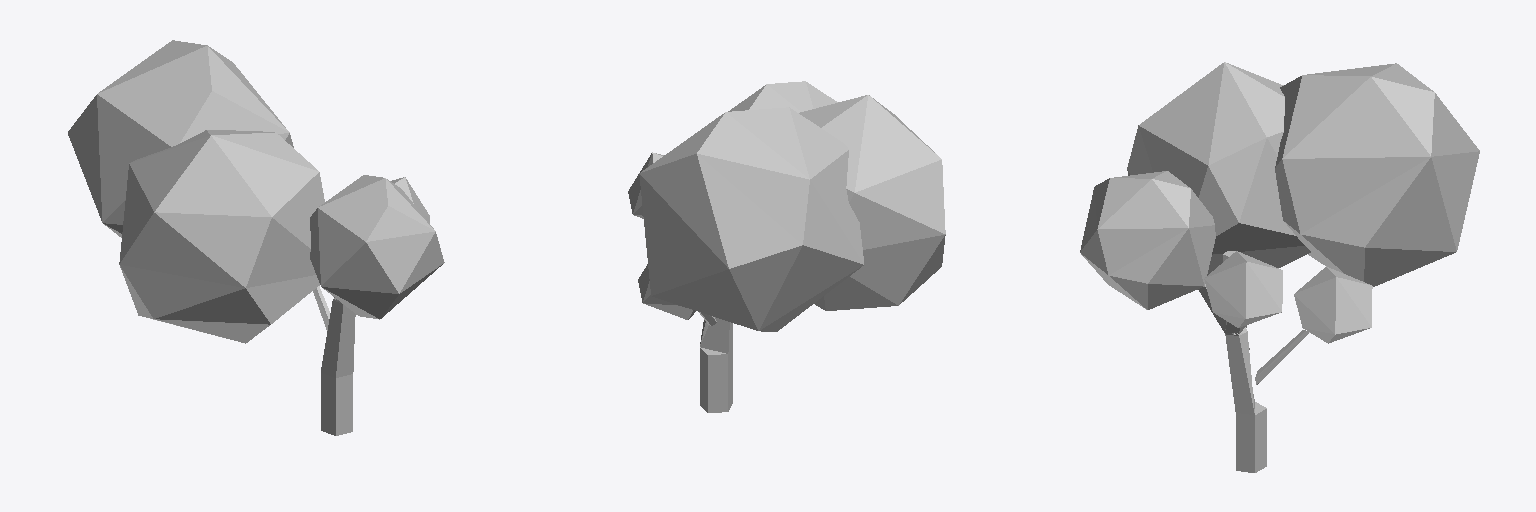
File: oak2.obj
The picture shows the model from 3 angles: view 1: azimuth 30°, elevation 25°; view 2: azimuth 150°, elevation 25°; view 3: azimuth 270°, elevation 25°; orthographic projection.
Parts seen in each view (by area): view 1: trunk_Cylinder.008; view 2: trunk_Cylinder.008; view 3: trunk_Cylinder.008.
Boxes of the visible parts, x1=… form: trunk_Cylinder.008: x1=68, y1=40, x2=444, y2=435; trunk_Cylinder.008: x1=628, y1=81, x2=945, y2=412; trunk_Cylinder.008: x1=1080, y1=62, x2=1479, y2=472.
Bounding box in the file's own units: 26.92 × 29.14 × 29.69.